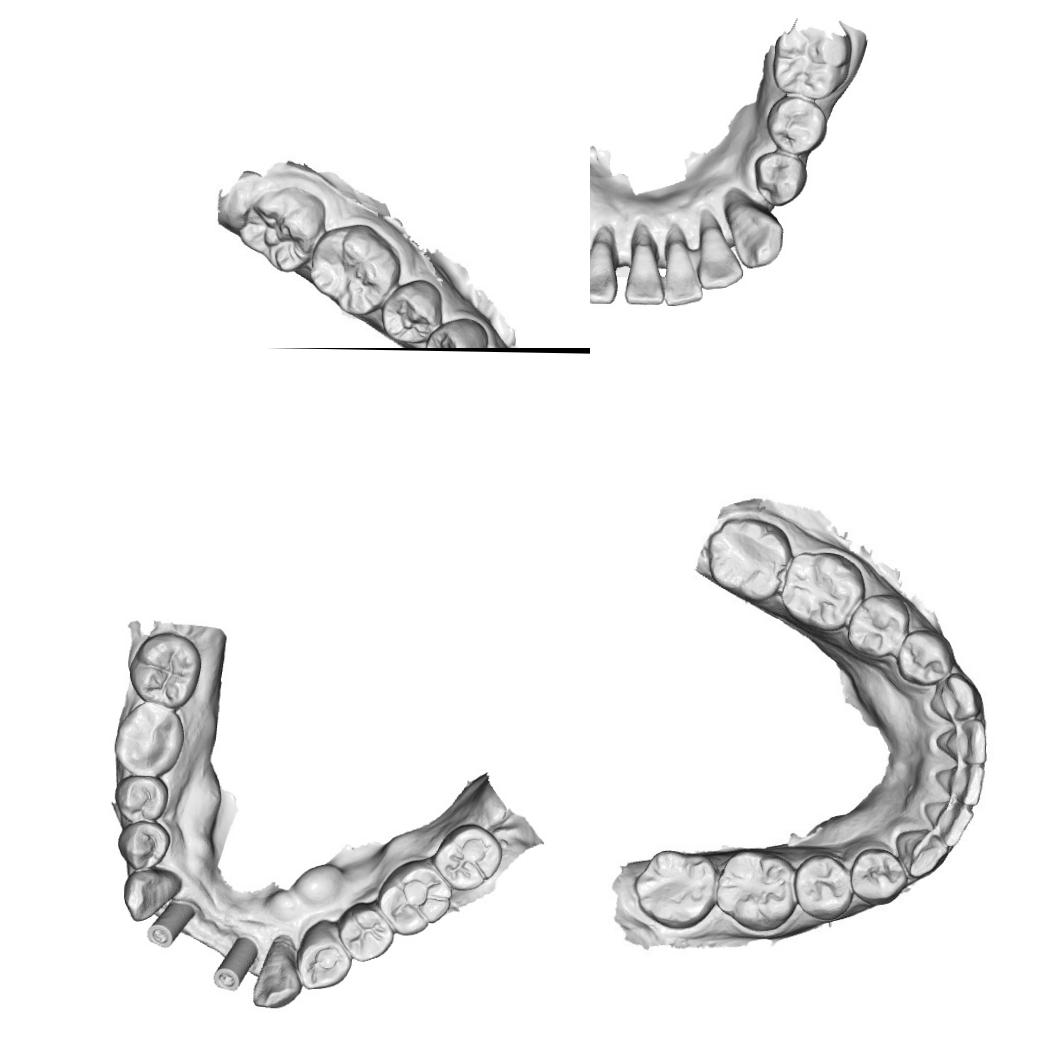canine: (252, 934, 304, 1012), (728, 198, 784, 270), (121, 866, 183, 923), (892, 830, 952, 880), (928, 672, 983, 723)
implant: (142, 897, 196, 952), (211, 933, 260, 992)
incisor: (696, 222, 746, 291), (622, 237, 666, 307), (662, 238, 703, 309), (920, 798, 977, 848), (933, 720, 990, 769), (932, 760, 988, 808), (590, 238, 619, 307)
molar: (705, 516, 790, 603), (632, 847, 716, 932), (308, 229, 395, 311), (778, 550, 863, 631), (243, 188, 326, 268), (716, 848, 794, 932), (376, 857, 454, 938), (111, 698, 186, 779), (128, 630, 204, 708), (770, 28, 852, 98), (432, 822, 504, 893)
premolar: (845, 592, 911, 662), (294, 917, 355, 992), (793, 851, 854, 920), (764, 94, 829, 154), (336, 901, 396, 962), (384, 279, 439, 344), (848, 846, 908, 905), (751, 150, 811, 207), (896, 629, 954, 686), (116, 820, 173, 872), (113, 774, 170, 824), (426, 320, 483, 348)
